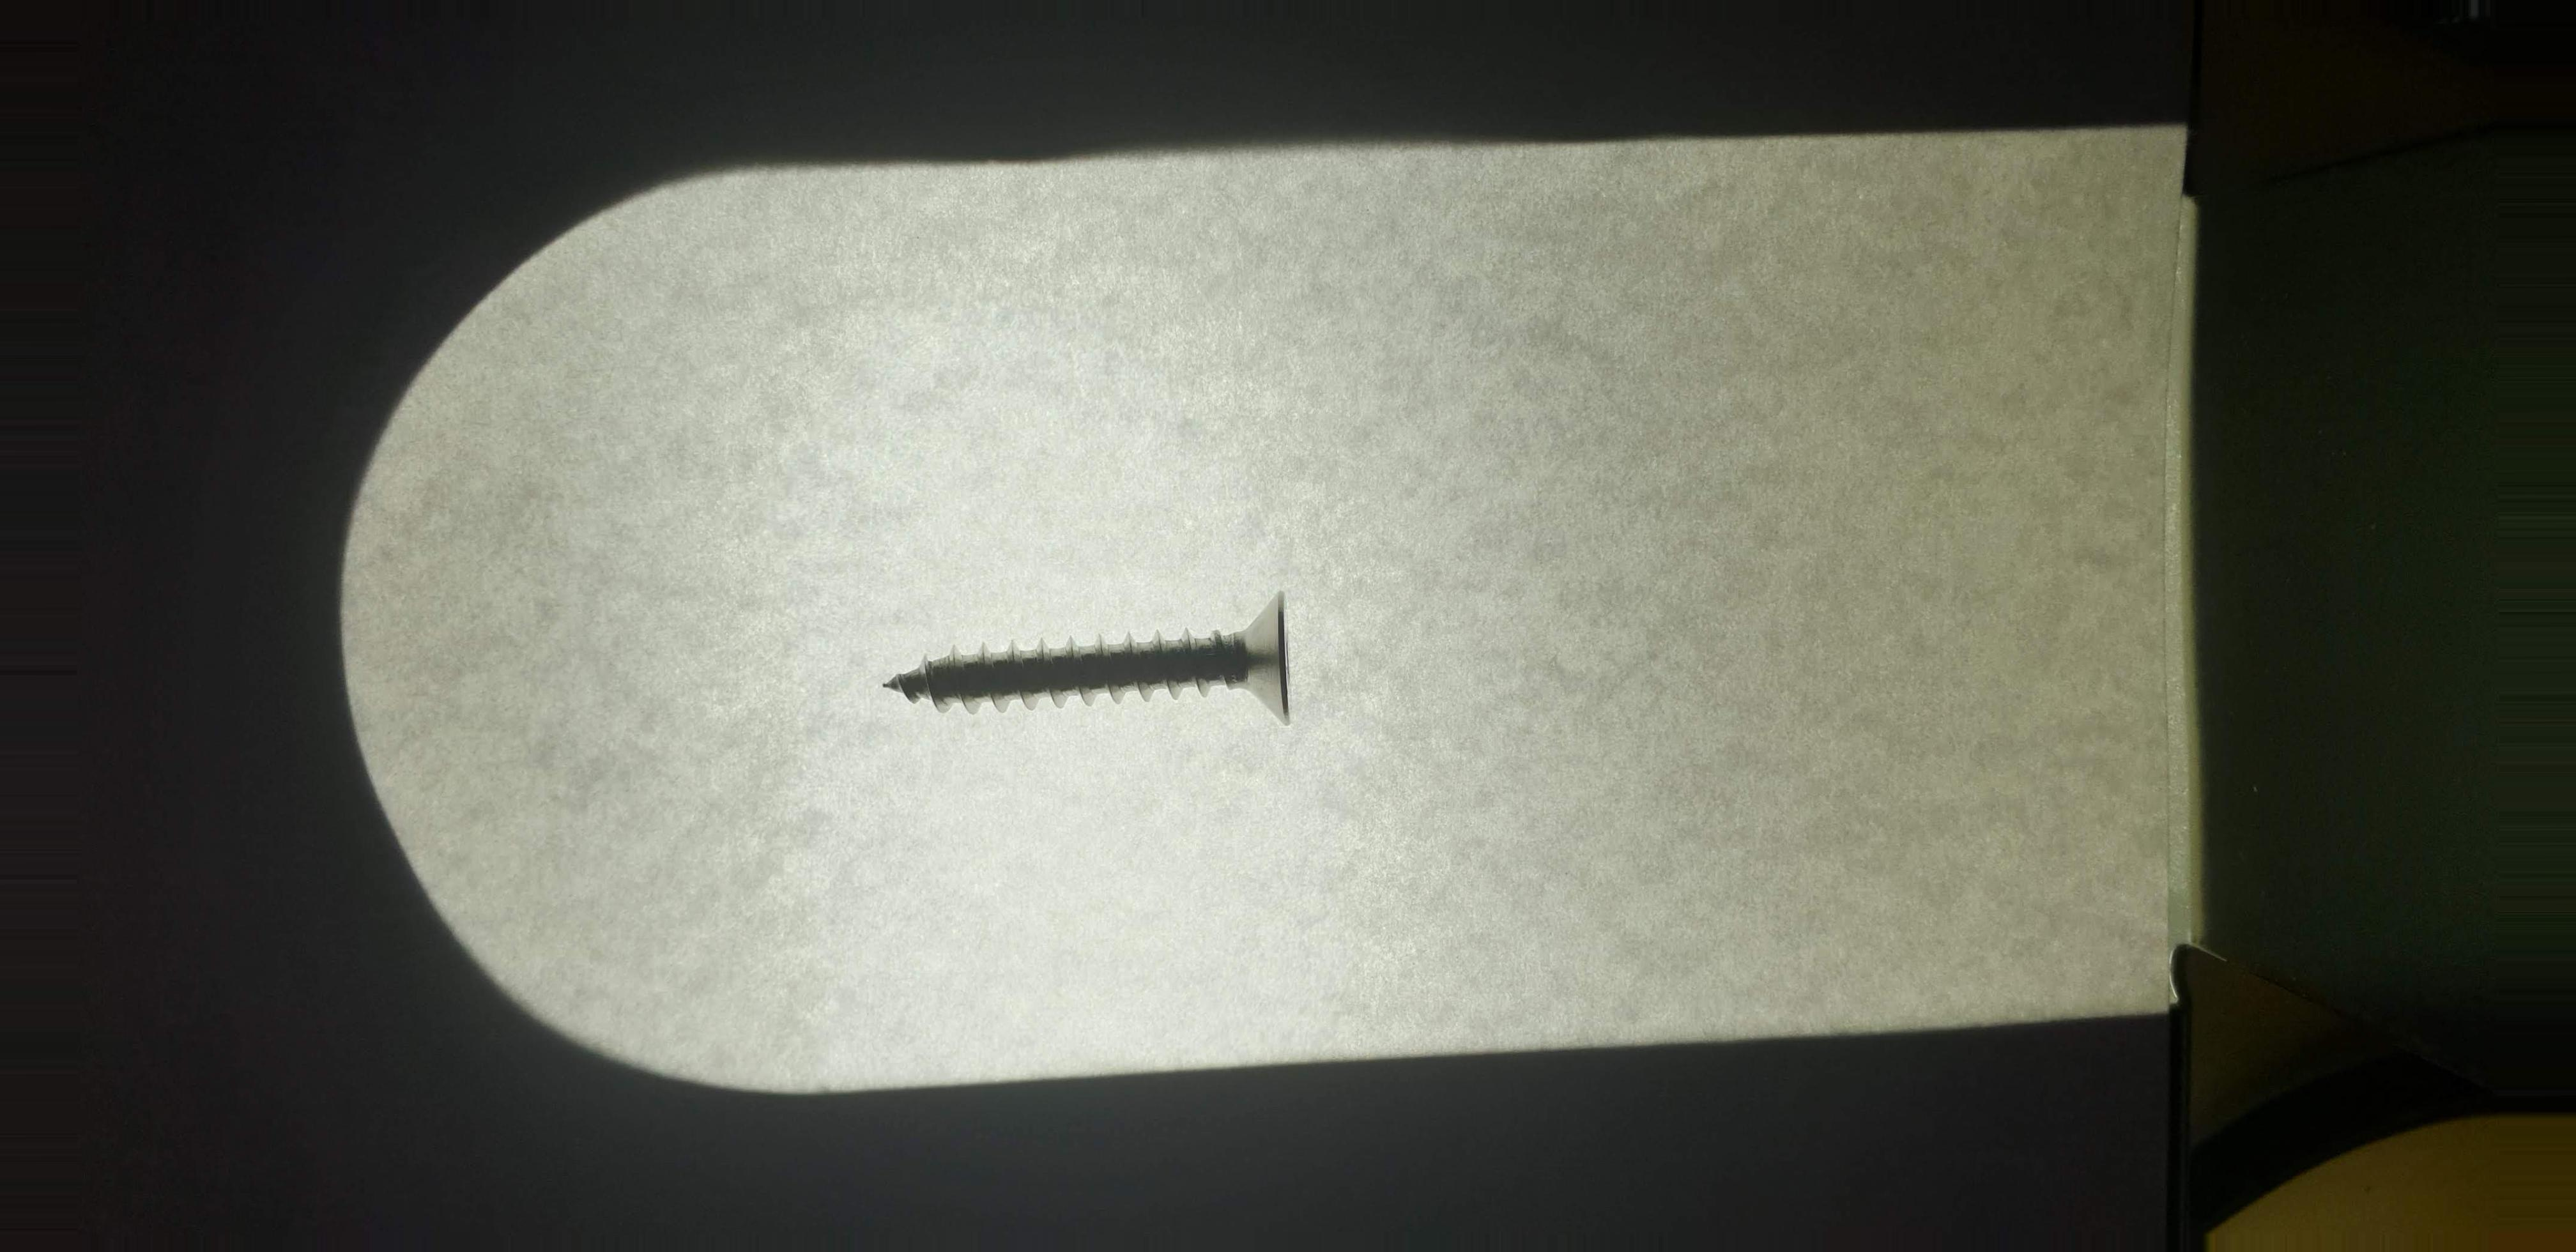S004: (835, 575, 1342, 776)
